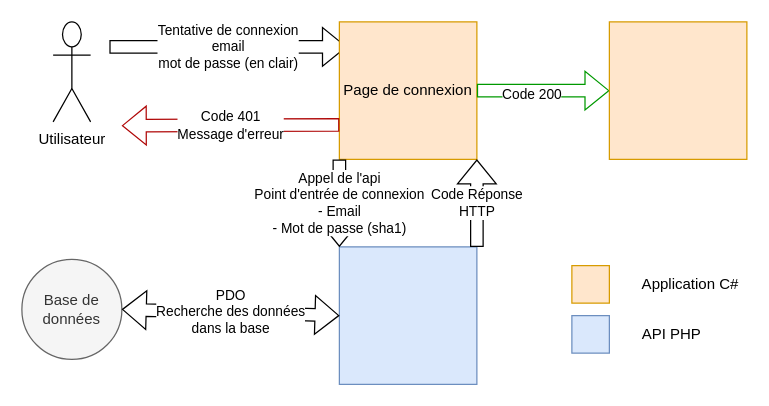
Image size: 769x406. Some labels were removed from this diagram. The shapes that lost their labels are listed below. From the top down, each one's centre as x and y in pixels, then its label:
(x=677, y=90): Page d'accueil de l'application
(x=407, y=315): API REST
